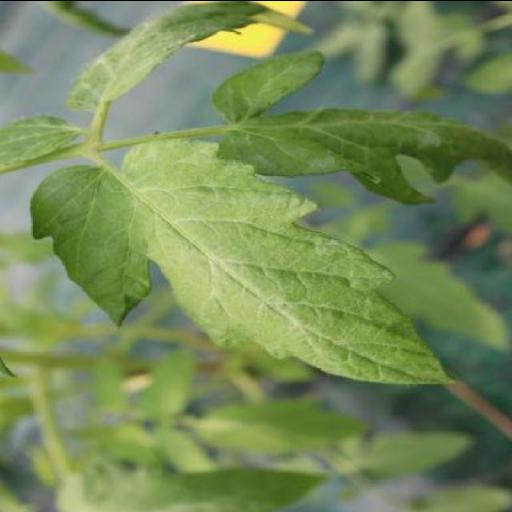Healthy: (32, 137, 458, 384)
